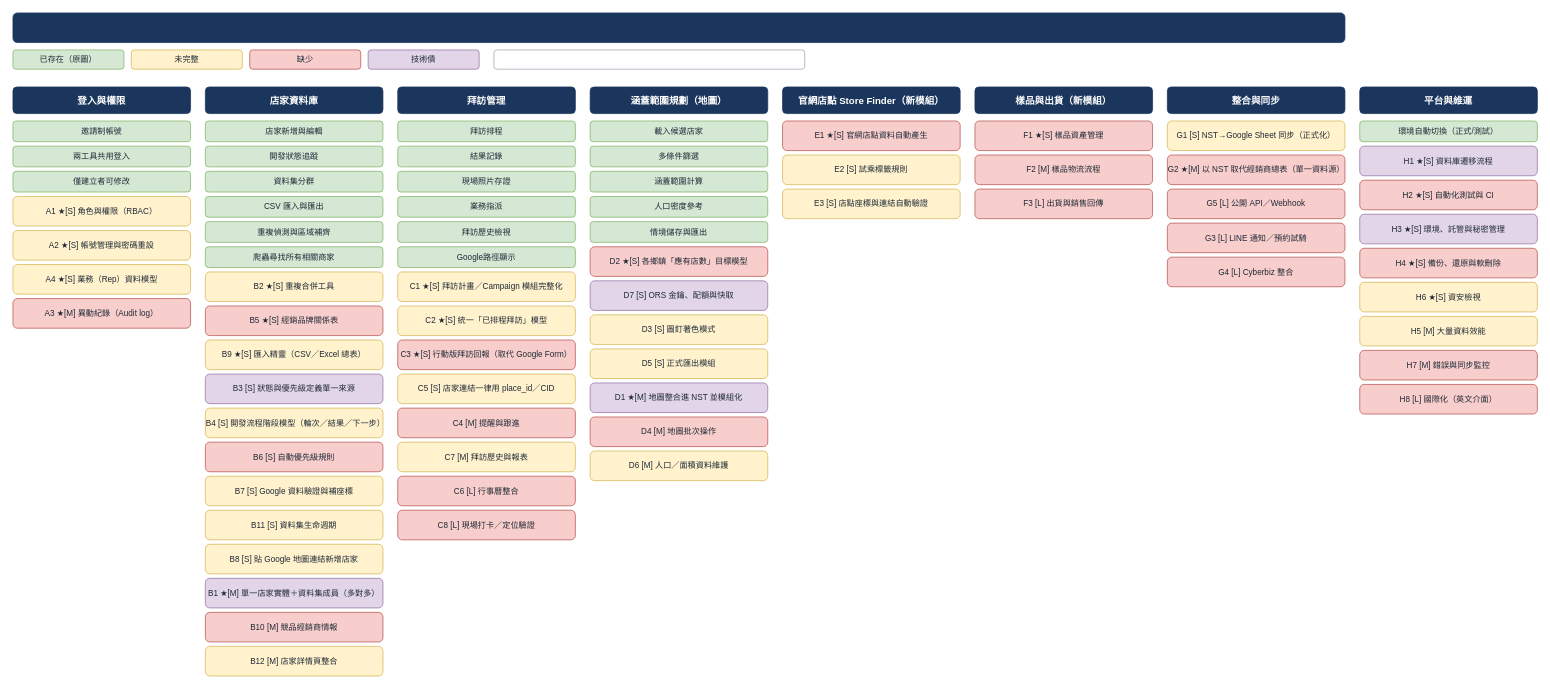
This 1550x689 diagram has some shape labels left out. Here are the shapes that lost their labels. From the top down, the box of each, then its label:
(12, 12, 1345, 43): NST 功能全景與缺口（2026-10-19）— 在開發團隊原圖基礎上加入「未完整／缺少／技術債」
(493, 49, 805, 69): 標記：[短]=1–2月 [中]=3–6月 [長]=6月以上 ★=高優先
